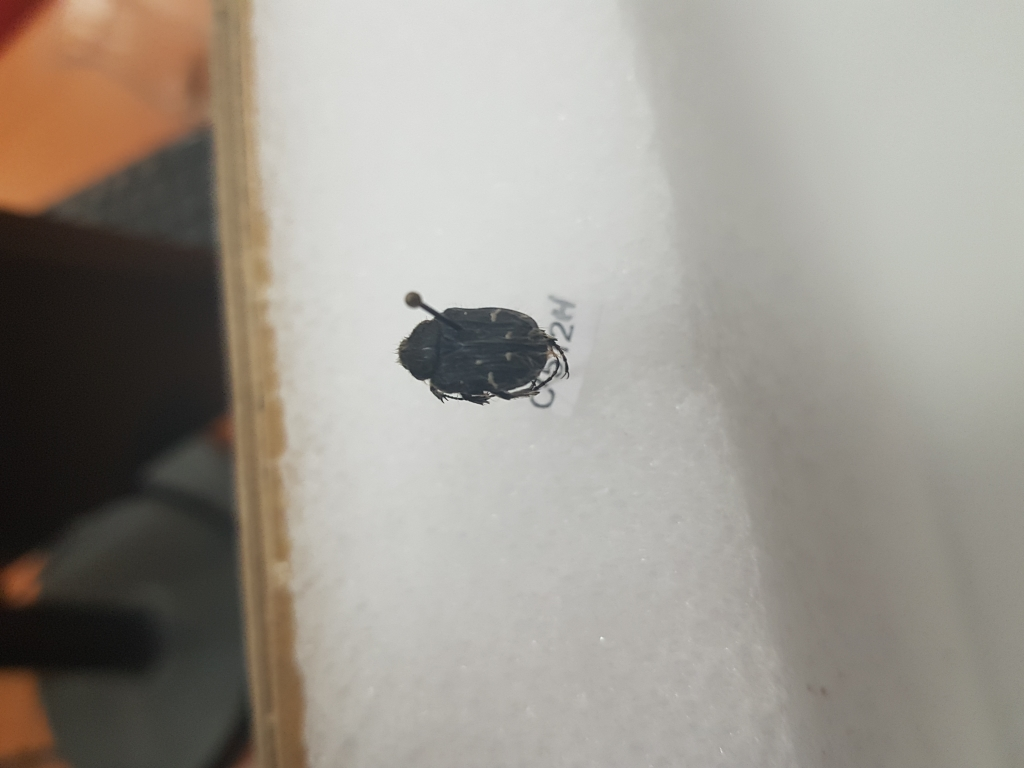Tropinota_senicula: (388, 281, 596, 413)
